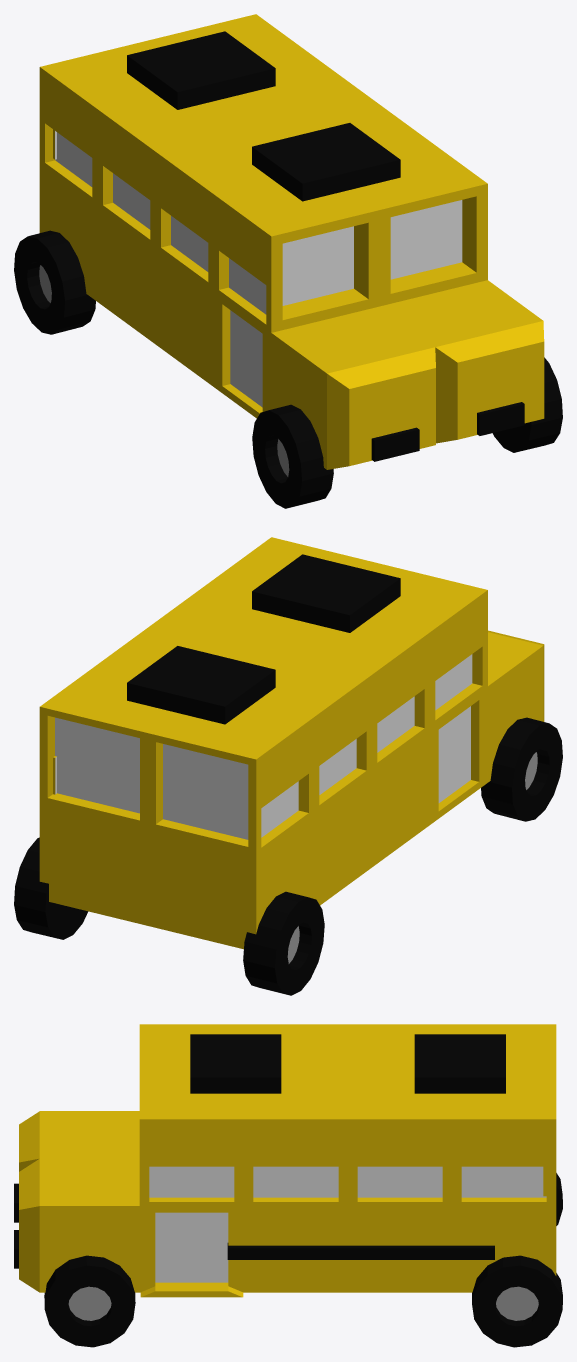
Rendered from Bus.fbx.
3 views of the same model, one above another, from view 1: azimuth 30°, elevation 25°; view 2: azimuth 150°, elevation 25°; view 3: azimuth 270°, elevation 25° (orthographic). The views are drawn at different scales.
Visible parts, largest first — view 1: Bus; view 2: Bus; view 3: Bus.
Boxes of the visible parts, x1,y1,x2,y2 form: Bus: (14, 14, 562, 508); Bus: (14, 537, 562, 995); Bus: (14, 1024, 562, 1347).
Bounding box in the file's own units: 596 × 569 × 1206.
